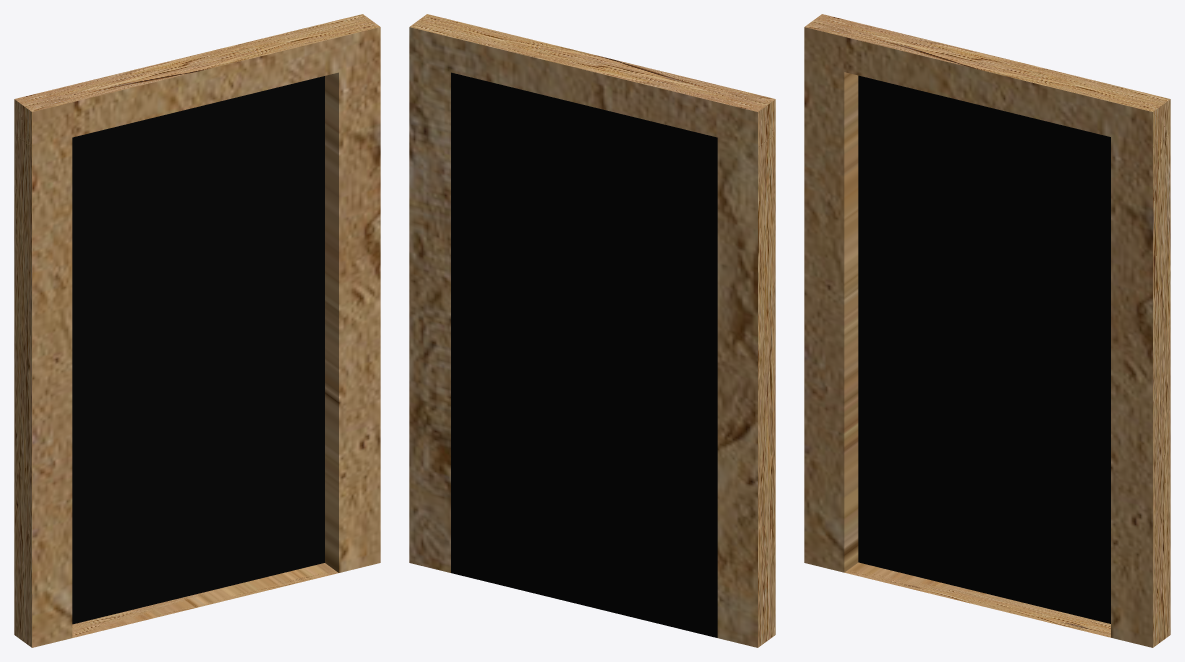
File: PortaPuzzle.fbx
3 renders of one model, left to right at view 1: azimuth 30°, elevation 25°; view 2: azimuth 150°, elevation 25°; view 3: azimuth 330°, elevation 25°, orthographic.
Parts seen in each view (by area): view 1: Cube; view 2: Cube; view 3: Cube.
Boxes of the visible parts, x1,y1,x2,y2 form: Cube: [14, 14, 380, 647]; Cube: [409, 14, 775, 647]; Cube: [804, 14, 1170, 647].
Size of the model in its own units: 4288 by 6299 by 380.
Materials: 2 (1 with a texture image).
